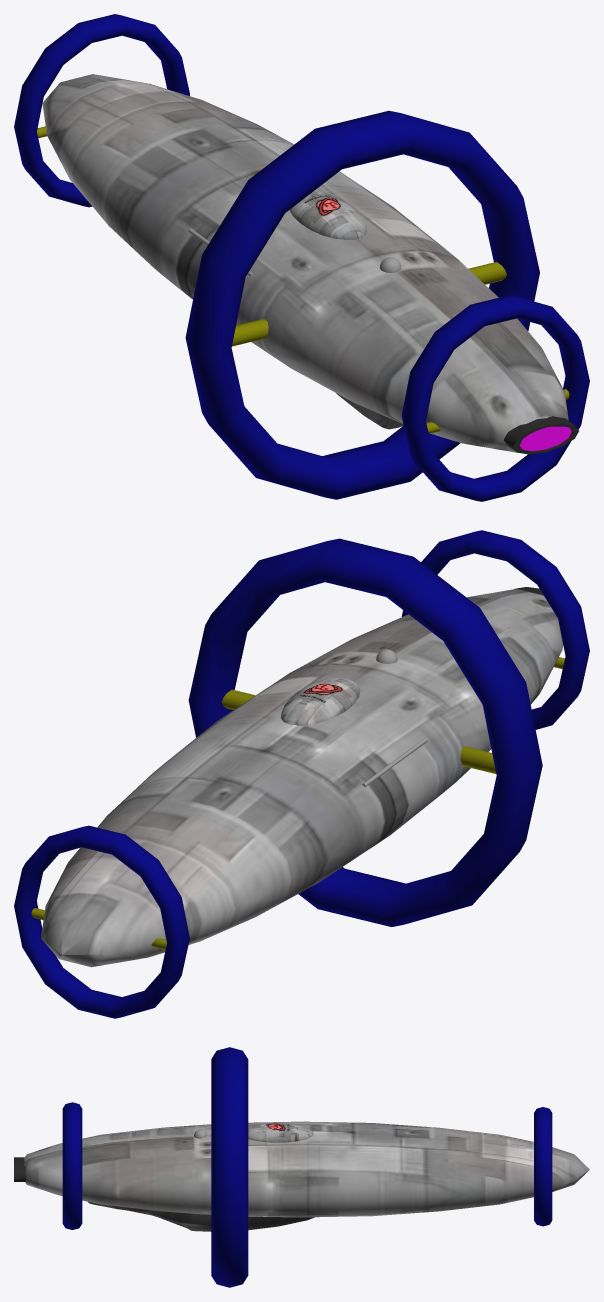
File: cigar1.obj
3 views of the same model, one above another, from view 1: azimuth 30°, elevation 25°; view 2: azimuth 150°, elevation 25°; view 3: azimuth 270°, elevation 25° (orthographic). The views are drawn at different scales.
Visible parts, largest first — view 1: main, rings, bridge, supports, thruster, thrust; view 2: main, rings, bridge, supports, greeble; view 3: main, rings, bottom, bridge.
Boxes of the visible parts, x1,y1,x2,y2 form: main: [42, 74, 568, 452]; rings: [14, 14, 589, 501]; bridge: [289, 190, 366, 239]; supports: [37, 126, 569, 433]; thruster: [504, 416, 578, 454]; thrust: [519, 426, 571, 451]; main: [41, 588, 563, 967]; rings: [14, 530, 589, 1018]; bridge: [281, 677, 360, 725]; supports: [31, 657, 564, 949]; greeble: [362, 649, 427, 786]; main: [23, 1121, 589, 1217]; rings: [62, 1047, 552, 1287]; bottom: [88, 1201, 314, 1231]; bridge: [248, 1123, 313, 1142].
Bounding box in the file's own units: 5.85 × 5.97 × 14.26.
4 materials, 1 textured.
